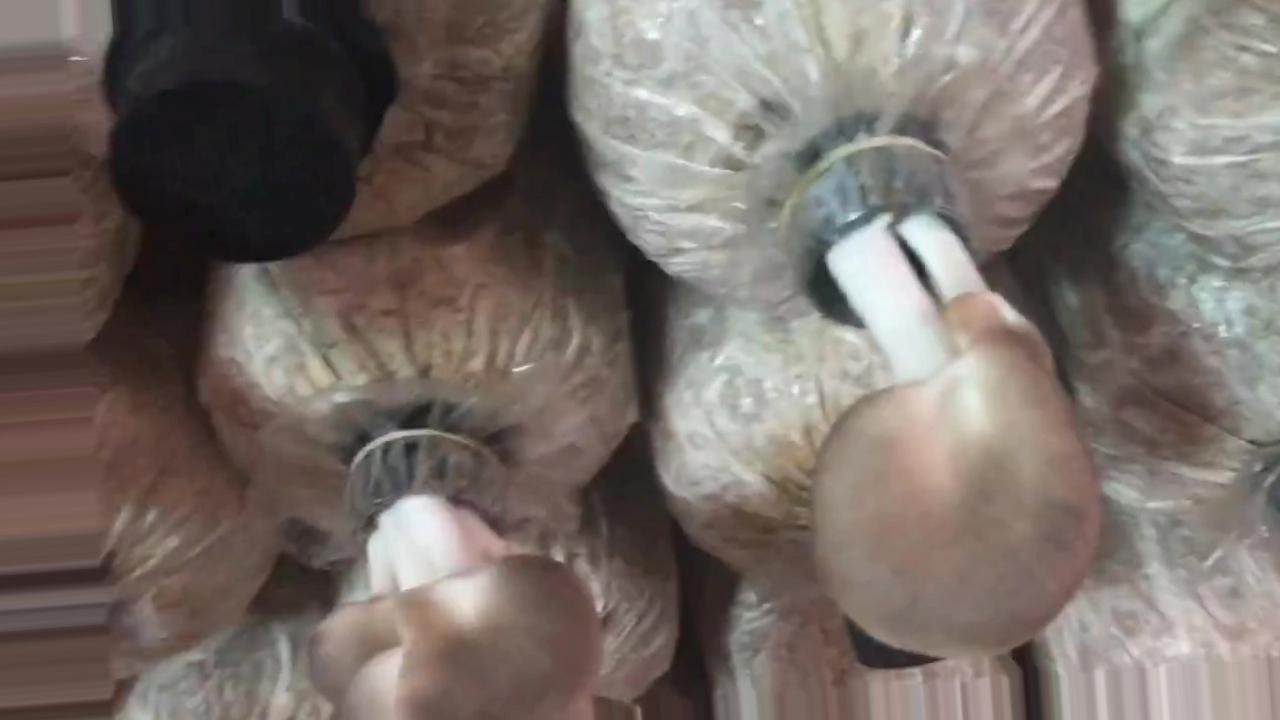nam: (772, 145, 1104, 653), (312, 431, 597, 720)
